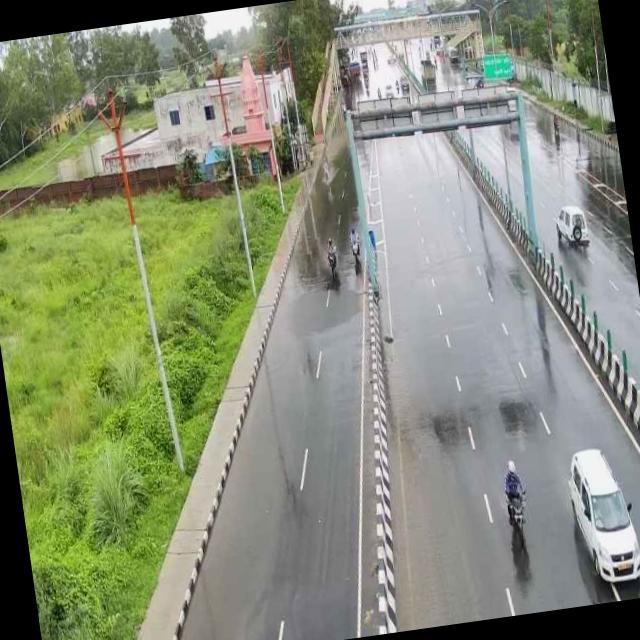car: (558, 439, 640, 598), (551, 197, 594, 257)
